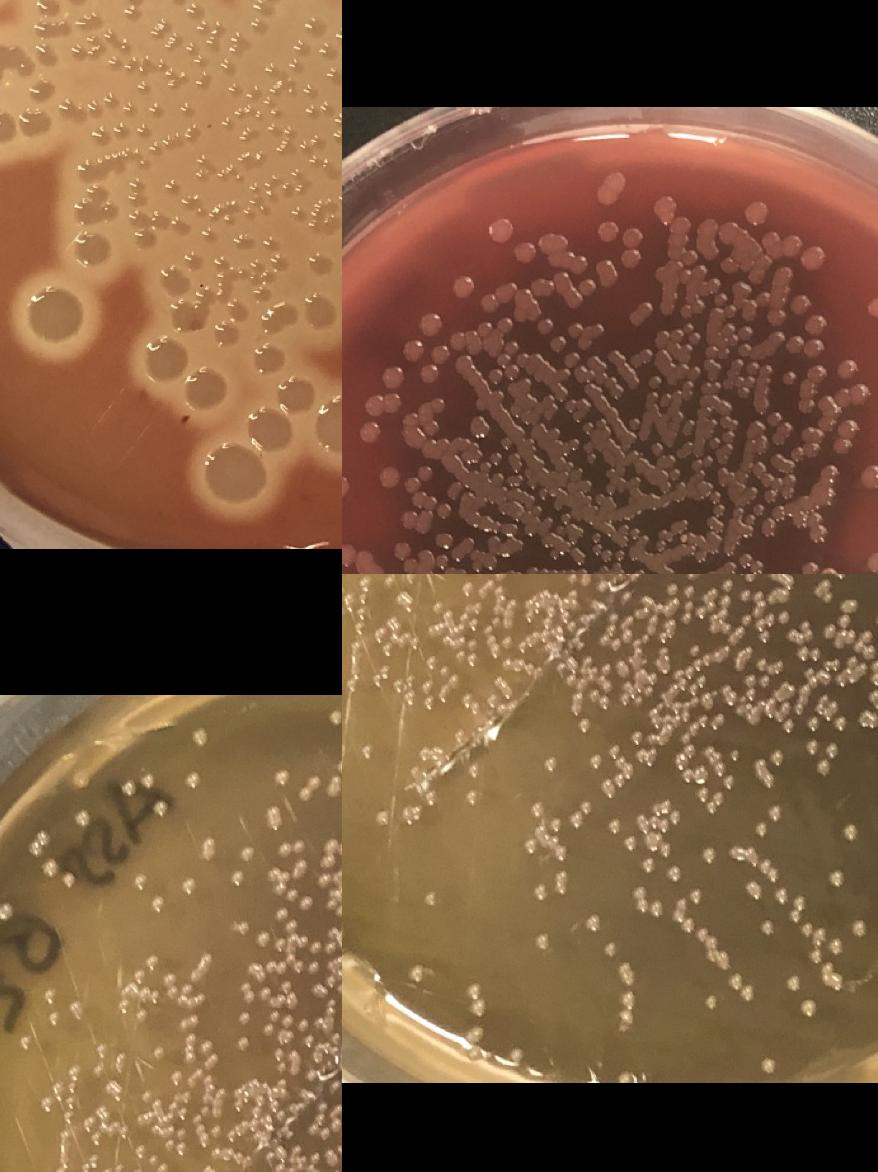assalmonicida: (682, 643, 714, 696), (671, 896, 709, 940), (678, 714, 710, 757), (754, 609, 790, 644), (646, 798, 682, 832), (261, 1009, 294, 1043), (632, 885, 664, 915), (248, 960, 289, 982), (586, 679, 614, 710), (852, 628, 878, 659), (752, 756, 776, 788), (702, 744, 726, 774), (319, 837, 342, 868), (275, 906, 298, 933), (30, 828, 52, 856), (728, 846, 760, 865), (286, 887, 314, 908), (464, 634, 481, 668), (299, 775, 321, 800), (800, 922, 827, 942), (174, 1124, 190, 1156), (788, 896, 806, 923), (704, 791, 724, 815), (865, 670, 878, 705), (308, 1148, 336, 1164), (743, 673, 772, 688), (278, 840, 305, 856), (239, 980, 256, 1004), (600, 660, 628, 674), (820, 962, 836, 985), (272, 993, 298, 1007), (681, 768, 707, 782), (842, 822, 860, 842), (828, 868, 846, 888), (856, 711, 878, 726), (194, 726, 209, 746), (240, 845, 258, 861), (16, 1032, 34, 1048), (422, 654, 440, 670), (358, 743, 376, 759), (151, 896, 168, 912), (151, 1044, 168, 1060), (69, 999, 86, 1015), (40, 1096, 57, 1112), (464, 789, 481, 805), (272, 936, 290, 951), (204, 836, 216, 858), (230, 870, 246, 886), (134, 874, 150, 890), (132, 1143, 148, 1159), (106, 1080, 122, 1096), (50, 1080, 66, 1096), (466, 762, 482, 778), (466, 982, 482, 998), (460, 692, 476, 708), (420, 677, 436, 693), (139, 773, 156, 788), (182, 877, 197, 893), (170, 1069, 185, 1085), (62, 871, 77, 887), (46, 1011, 62, 1026), (832, 716, 848, 731), (461, 580, 476, 596), (430, 599, 445, 615), (342, 591, 357, 606), (154, 799, 168, 815), (140, 1088, 154, 1104), (134, 1008, 150, 1022), (122, 780, 136, 796), (76, 809, 90, 825), (44, 858, 58, 874), (640, 594, 656, 608), (426, 789, 440, 805), (422, 695, 436, 711), (268, 866, 283, 880), (774, 889, 789, 903), (769, 750, 784, 764), (760, 920, 775, 934), (718, 620, 732, 635), (682, 585, 697, 599), (586, 916, 601, 930), (576, 718, 591, 732), (532, 801, 546, 816), (471, 1000, 486, 1014), (467, 1026, 482, 1040), (397, 592, 412, 606), (328, 781, 342, 795), (318, 873, 332, 887), (318, 1126, 332, 1140), (314, 984, 328, 998), (308, 940, 322, 954), (296, 858, 310, 872), (296, 1019, 310, 1033), (279, 977, 293, 991), (236, 921, 250, 935), (236, 1036, 250, 1050), (44, 988, 58, 1002), (842, 598, 856, 612), (828, 938, 842, 952), (824, 743, 838, 757), (822, 624, 836, 638), (817, 760, 831, 774), (802, 1000, 816, 1014), (786, 976, 800, 990), (781, 718, 795, 732), (766, 868, 780, 882), (754, 656, 768, 670), (754, 823, 768, 837), (728, 748, 742, 762), (724, 690, 738, 704), (722, 774, 736, 788), (721, 577, 735, 591), (702, 847, 716, 861), (689, 889, 703, 903), (680, 612, 694, 626), (667, 866, 681, 880), (666, 582, 680, 596), (660, 843, 674, 857), (629, 729, 643, 743), (624, 836, 638, 850), (620, 1010, 634, 1024), (612, 772, 626, 786), (608, 744, 622, 758), (608, 820, 622, 834), (604, 944, 618, 958), (588, 756, 602, 770), (579, 799, 593, 813), (571, 690, 585, 704), (564, 672, 578, 686), (536, 933, 550, 947), (522, 839, 536, 853), (768, 807, 783, 820), (308, 960, 322, 973), (292, 960, 306, 973), (838, 614, 852, 627), (806, 715, 820, 728), (739, 588, 753, 601), (330, 710, 342, 724), (275, 770, 289, 782), (258, 986, 272, 998), (257, 932, 271, 944), (236, 1010, 250, 1022), (186, 773, 200, 785), (810, 950, 824, 962), (806, 740, 820, 752), (739, 614, 753, 626), (720, 594, 732, 608), (712, 712, 726, 724), (704, 996, 718, 1008), (642, 858, 656, 870), (618, 693, 632, 705), (544, 758, 558, 770), (697, 788, 710, 800), (272, 1161, 286, 1172), (317, 1100, 329, 1112), (307, 1068, 319, 1080), (303, 1035, 315, 1047), (290, 1143, 302, 1155), (648, 707, 660, 719), (635, 749, 647, 761), (634, 694, 646, 706), (631, 636, 643, 648), (621, 679, 633, 691), (610, 638, 622, 650), (608, 611, 620, 623), (598, 579, 610, 591), (581, 654, 593, 666), (336, 903, 342, 919), (129, 1166, 144, 1172), (342, 607, 347, 623), (833, 574, 848, 578), (330, 1168, 342, 1172)
pddamselae: (258, 292, 340, 334), (206, 444, 264, 498), (26, 288, 84, 342), (246, 407, 292, 451), (142, 337, 188, 381), (182, 367, 228, 410), (277, 374, 316, 414), (315, 399, 342, 453), (74, 233, 111, 269), (253, 343, 288, 379), (74, 157, 102, 185), (306, 250, 332, 278), (214, 321, 240, 349), (158, 264, 184, 292)
vangil: (403, 462, 454, 520), (762, 230, 826, 268), (752, 453, 797, 502), (599, 220, 644, 268), (487, 338, 531, 384), (732, 360, 774, 398), (772, 330, 824, 357), (800, 362, 826, 412), (502, 281, 532, 321), (792, 510, 826, 544), (454, 354, 485, 388), (597, 169, 626, 205), (834, 417, 861, 453), (566, 277, 596, 309), (767, 410, 794, 445), (392, 538, 418, 574), (836, 381, 872, 405), (342, 545, 375, 571), (364, 393, 402, 414), (566, 322, 594, 350), (672, 320, 701, 346), (629, 300, 655, 326), (666, 244, 698, 264), (719, 219, 743, 244), (652, 194, 676, 219), (596, 258, 616, 288), (714, 292, 737, 318), (545, 232, 569, 256), (513, 239, 537, 263), (452, 274, 476, 298), (381, 364, 405, 388), (489, 218, 513, 241), (420, 311, 443, 335), (744, 201, 766, 226), (739, 553, 765, 574), (420, 396, 447, 416), (801, 560, 839, 574), (530, 278, 556, 298), (680, 300, 706, 318), (860, 464, 878, 488), (691, 456, 708, 481), (399, 507, 419, 528), (379, 467, 399, 488), (800, 426, 826, 442), (837, 359, 857, 379), (806, 315, 826, 335), (774, 265, 794, 285), (766, 305, 786, 325), (718, 254, 738, 274), (671, 215, 690, 235), (404, 340, 424, 359), (790, 296, 810, 314), (470, 418, 490, 436), (434, 529, 452, 549), (360, 422, 380, 440), (758, 518, 777, 536), (570, 256, 589, 274), (481, 292, 499, 311), (476, 318, 494, 337), (822, 464, 840, 482), (563, 350, 581, 368), (548, 334, 566, 352), (536, 316, 554, 334), (496, 316, 514, 334), (450, 331, 468, 349), (420, 363, 438, 381), (432, 345, 450, 362), (866, 550, 878, 574), (544, 425, 562, 441), (402, 412, 420, 428), (866, 295, 878, 318), (702, 244, 719, 260), (677, 268, 694, 284), (562, 398, 579, 414), (507, 381, 524, 397), (446, 482, 463, 498), (626, 414, 642, 430), (608, 383, 624, 399), (498, 434, 514, 450), (490, 472, 506, 488), (434, 552, 450, 568), (477, 459, 492, 475), (425, 420, 440, 436), (658, 300, 675, 314), (702, 218, 716, 234), (506, 451, 520, 467), (752, 502, 767, 516), (790, 446, 804, 460), (755, 396, 769, 410), (712, 503, 726, 517), (708, 435, 722, 449), (687, 364, 701, 378), (669, 464, 683, 478), (655, 328, 669, 342), (638, 348, 652, 362), (342, 470, 349, 495), (783, 372, 797, 384), (750, 420, 764, 432), (740, 326, 754, 338), (738, 344, 752, 356), (708, 278, 722, 290), (648, 442, 662, 454), (648, 376, 662, 388)
